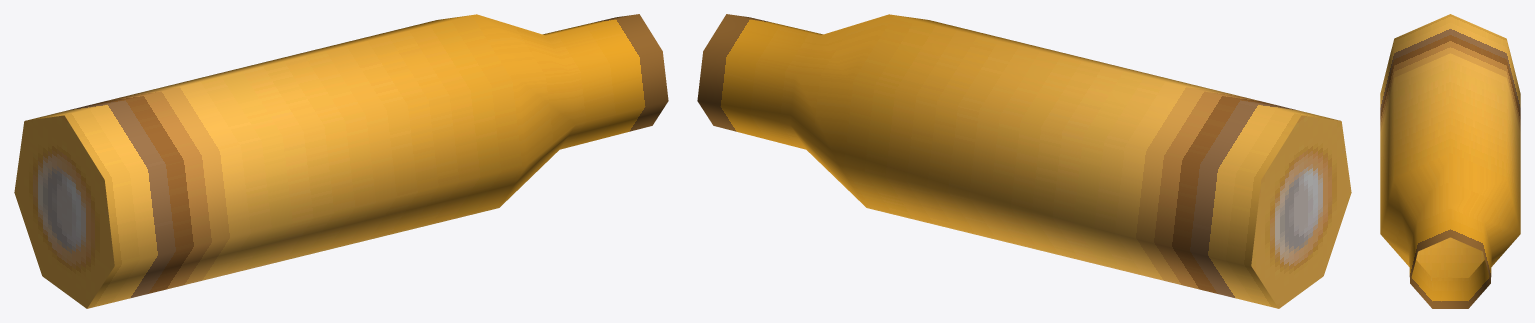
The model's file is 46Round_Spent.fbx.
The picture shows the model from 3 angles, left to right: view 1: azimuth 30°, elevation 25°; view 2: azimuth 150°, elevation 25°; view 3: azimuth 270°, elevation 25°; orthographic projection. The views are drawn at different scales.
Visible parts, largest first — view 1: 46ammo; view 2: 46ammo; view 3: 46ammo.
Boxes of the visible parts, box(x1,y1,x2,y2) form: 46ammo: box(14, 14, 668, 308); 46ammo: box(697, 14, 1351, 308); 46ammo: box(1380, 14, 1520, 308).
Bounding box in the file's own units: 0.0542 × 0.016 × 0.0164.
